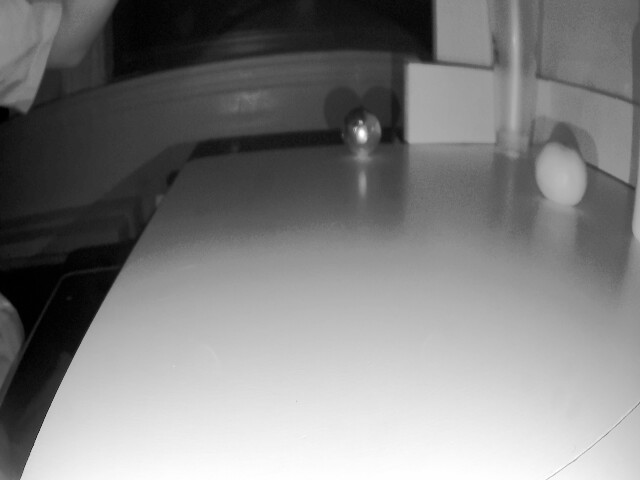black: (336, 109, 383, 159)
